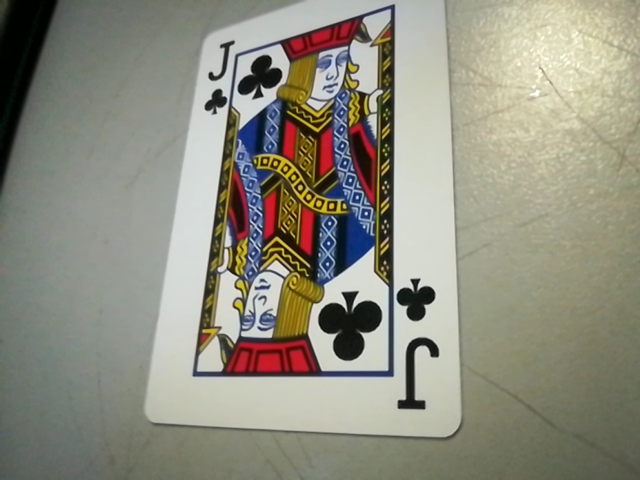mh j: (385, 268, 453, 422), (196, 37, 240, 114)
